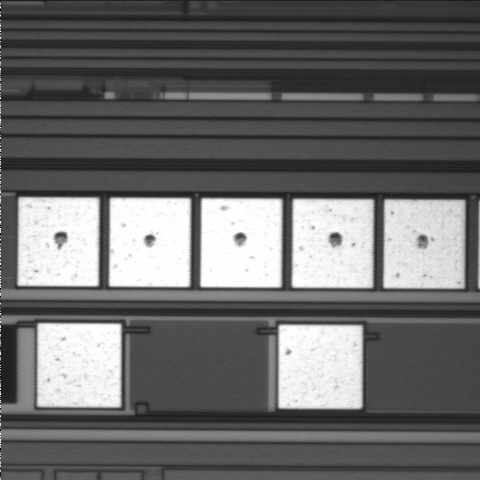pad: (200, 198, 282, 288), (109, 198, 191, 287), (18, 197, 99, 286), (292, 199, 373, 288), (384, 200, 465, 288), (37, 323, 121, 407), (278, 325, 362, 409)
